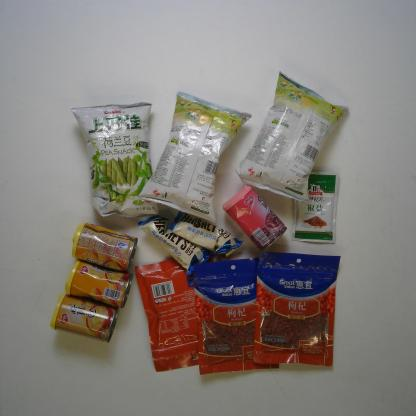Canned Food: (222, 184, 286, 251), (65, 258, 133, 308), (50, 293, 118, 342), (72, 223, 138, 272)
Chocolate: (137, 216, 216, 275), (170, 206, 243, 257)
Dried Fruit: (134, 246, 230, 372), (192, 256, 280, 372), (254, 250, 341, 367)
Puffed Food: (138, 89, 252, 224), (235, 70, 348, 204), (70, 103, 162, 218)
Seasoner: (291, 170, 340, 244)
